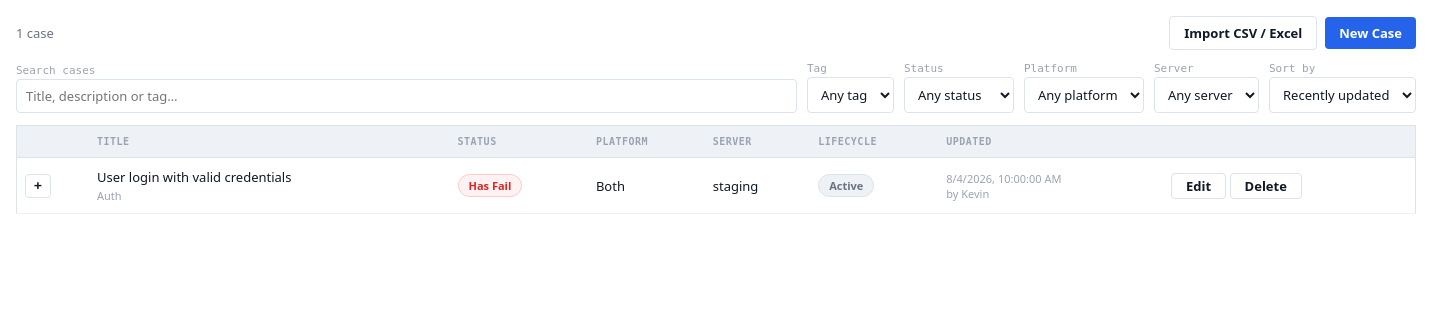
Test: a row shows its derived badge and reveals per-plan status when expanded
This screenshot has width=1433, height=319.
Expected: the text "Has Fail" is shown, x1=458 y1=174 x2=522 y2=197
Click the button "+" at (38, 186), box x1=25 y1=174 x2=51 y2=198
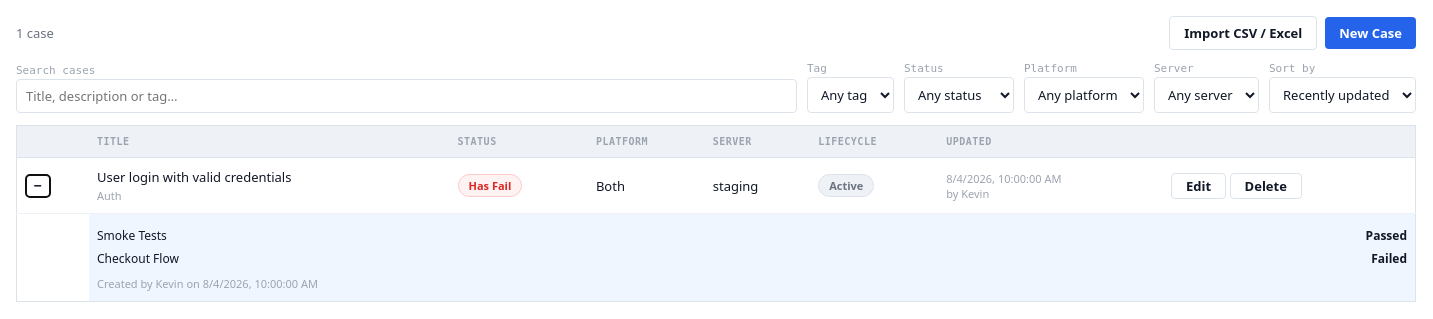
Expected: the text "Checkout Flow" is shown, x1=97 y1=250 x2=179 y2=267
Expected: the text "Failed" is shown, x1=1371 y1=250 x2=1407 y2=267
